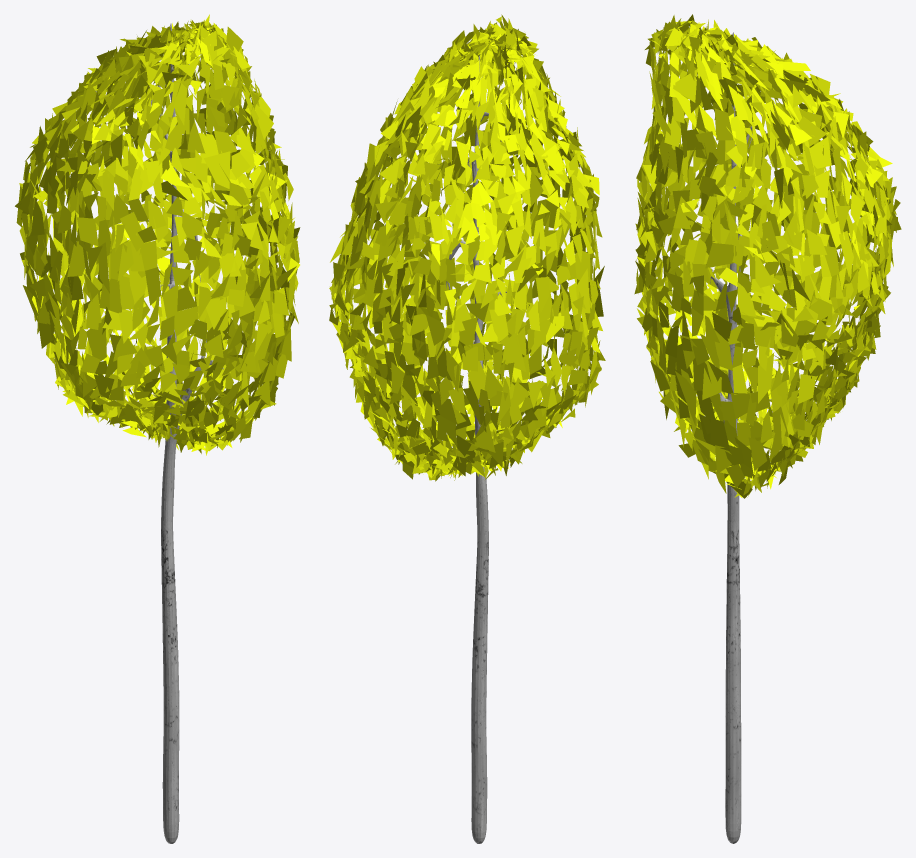
Rendered from Leaves62.fbx.
3 renders of one model, left to right at view 1: azimuth 30°, elevation 25°; view 2: azimuth 150°, elevation 25°; view 3: azimuth 270°, elevation 25°, orthographic. The views are drawn at different scales.
Parts seen in each view (by area): view 1: Leaves62; view 2: Leaves62; view 3: Leaves62.
Part boxes in pixels (x1=…): Leaves62: x1=15, y1=14, x2=300, y2=843; Leaves62: x1=329, y1=14, x2=605, y2=843; Leaves62: x1=634, y1=14, x2=901, y2=843.
Size of the model in its own units: 795 by 2628 by 768.
Materials: 2 (1 with a texture image).
